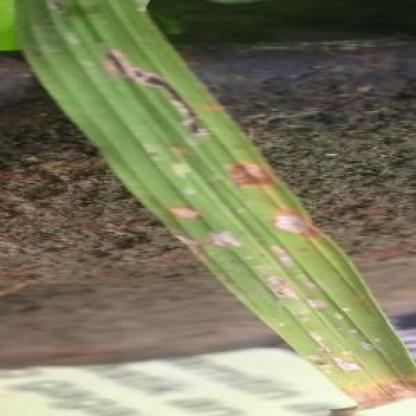Rice blast: (86, 43, 209, 147), (274, 202, 324, 248), (220, 152, 280, 190), (162, 197, 208, 231), (215, 231, 251, 256)
